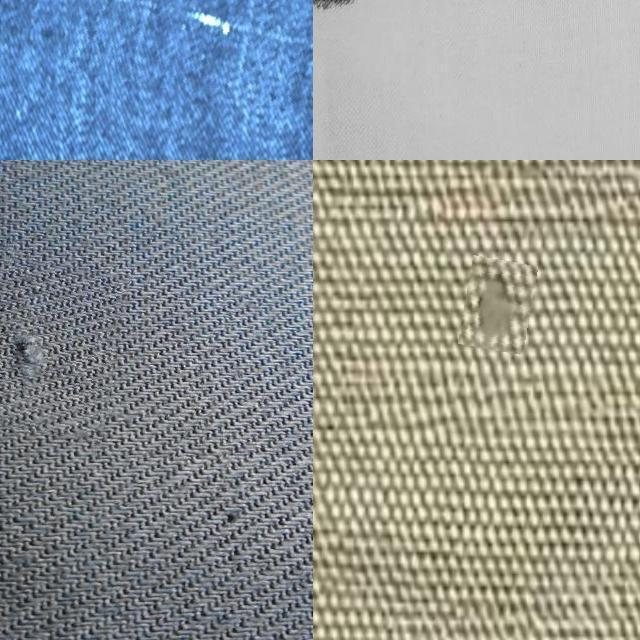other: (461, 258, 535, 352)
stains: (66, 0, 313, 141), (0, 251, 124, 436)
